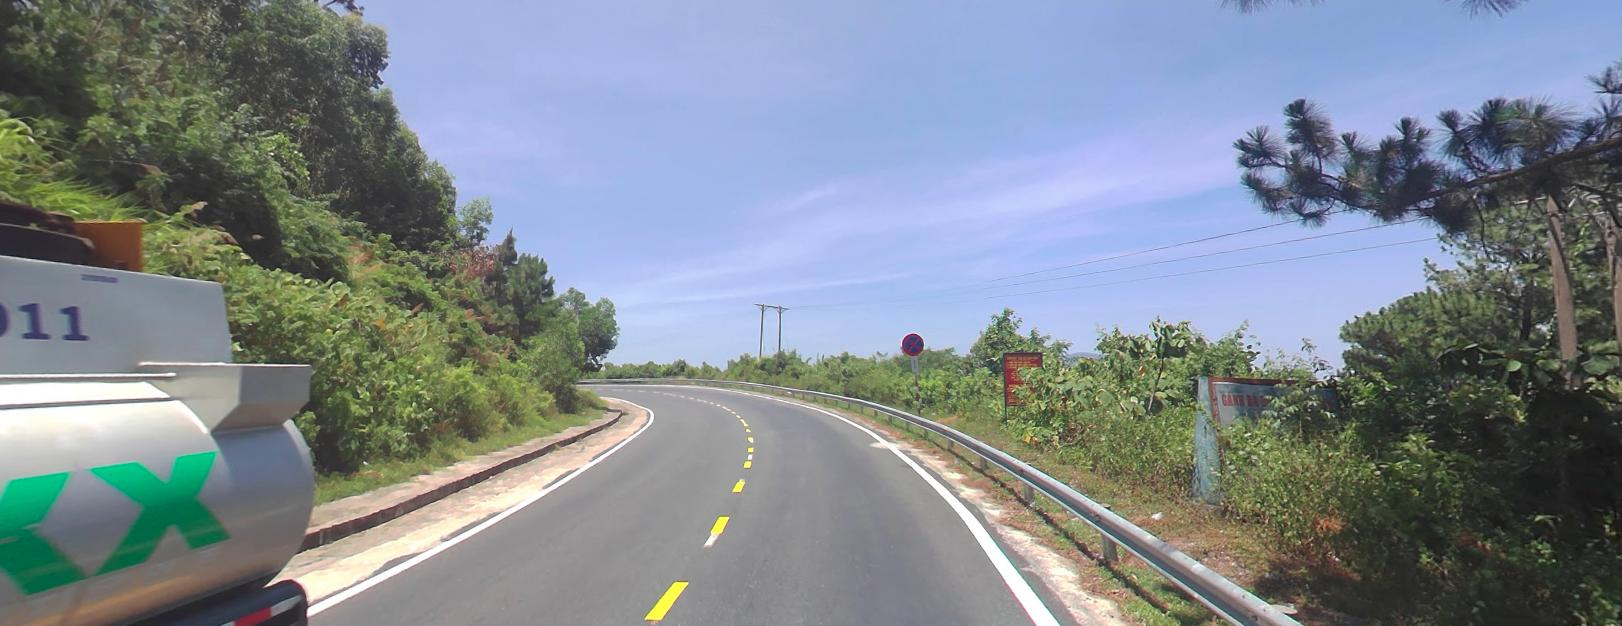Cam dung va do: (901, 330, 924, 353)
